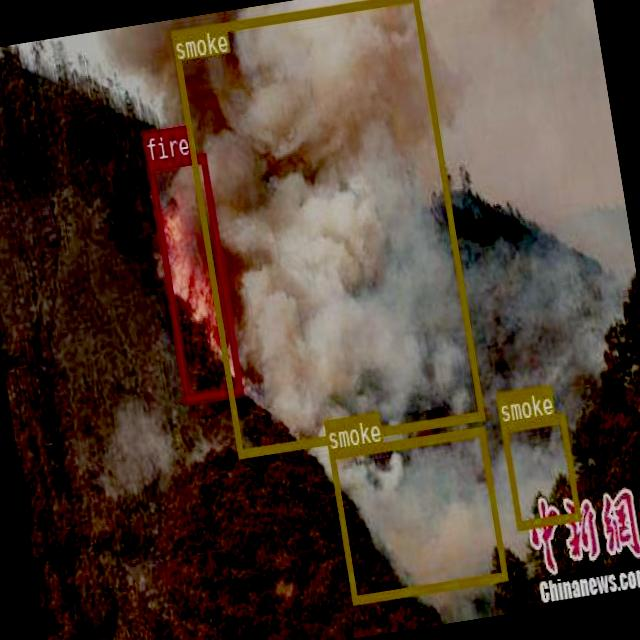fire: (146, 152, 241, 401)
smoke: (170, 0, 483, 456), (328, 426, 507, 604), (500, 413, 580, 528)
